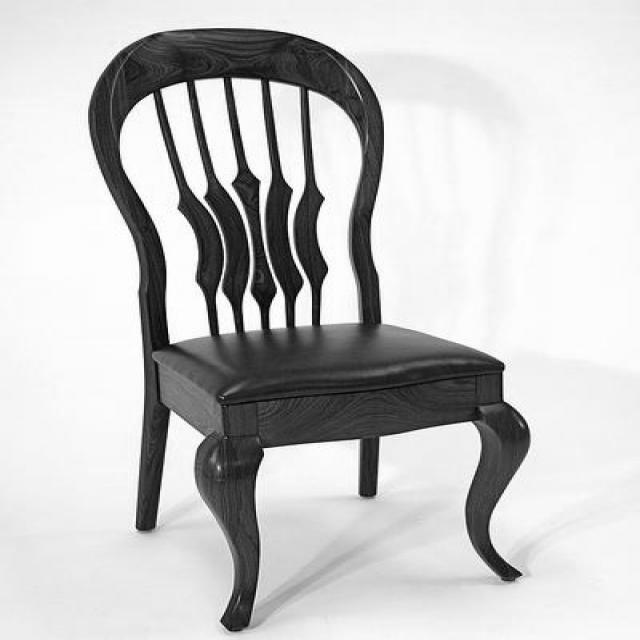chair: (88, 25, 536, 633)
